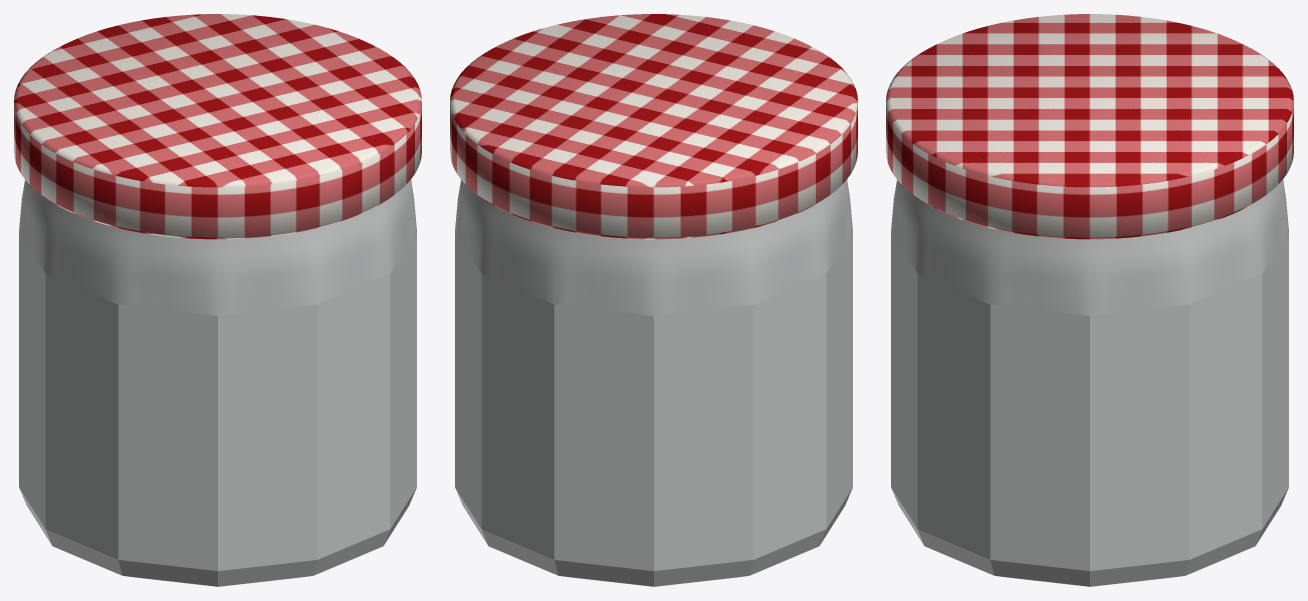
The model's file is bonne_maman_jar.glb.
3 renders of one model, left to right at view 1: azimuth 30°, elevation 25°; view 2: azimuth 150°, elevation 25°; view 3: azimuth 270°, elevation 25°, orthographic.
Parts seen in each view (by area): view 1: hollow_faceted_glass_body, gingham_metal_lid; view 2: hollow_faceted_glass_body, gingham_metal_lid; view 3: hollow_faceted_glass_body, gingham_metal_lid.
Part boxes in pixels (left/top/right/bottom): hollow_faceted_glass_body: left=19, top=179, right=416, bottom=586; gingham_metal_lid: left=14, top=14, right=421, bottom=239; hollow_faceted_glass_body: left=455, top=179, right=852, bottom=586; gingham_metal_lid: left=450, top=14, right=857, bottom=239; hollow_faceted_glass_body: left=891, top=179, right=1288, bottom=586; gingham_metal_lid: left=886, top=14, right=1293, bottom=239.
Bounding box in the file's own units: 0.084 × 0.095 × 0.084.
Materials: 2 (1 with a texture image).
